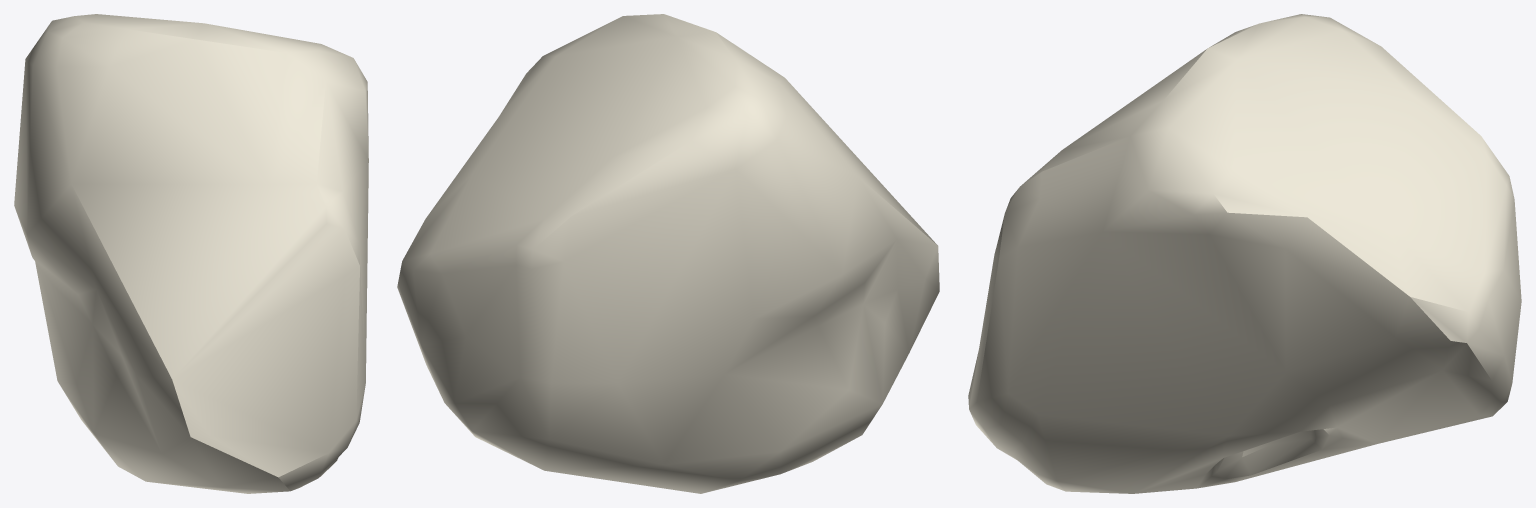
The model's file is fma24440_fj3285.glb.
3 views of the same model, side by side, from view 1: azimuth 30°, elevation 25°; view 2: azimuth 150°, elevation 25°; view 3: azimuth 270°, elevation 25° (orthographic). The views are drawn at different scales.
Visible parts, largest first — view 1: FMA24440_FJ3285; view 2: FMA24440_FJ3285; view 3: FMA24440_FJ3285.
Boxes of the visible parts, x1=… form: FMA24440_FJ3285: x1=14, y1=14, x2=368, y2=493; FMA24440_FJ3285: x1=397, y1=14, x2=939, y2=493; FMA24440_FJ3285: x1=968, y1=14, x2=1521, y2=493.
Size of the model in its own units: 0.0109 by 0.0136 by 0.0154.
